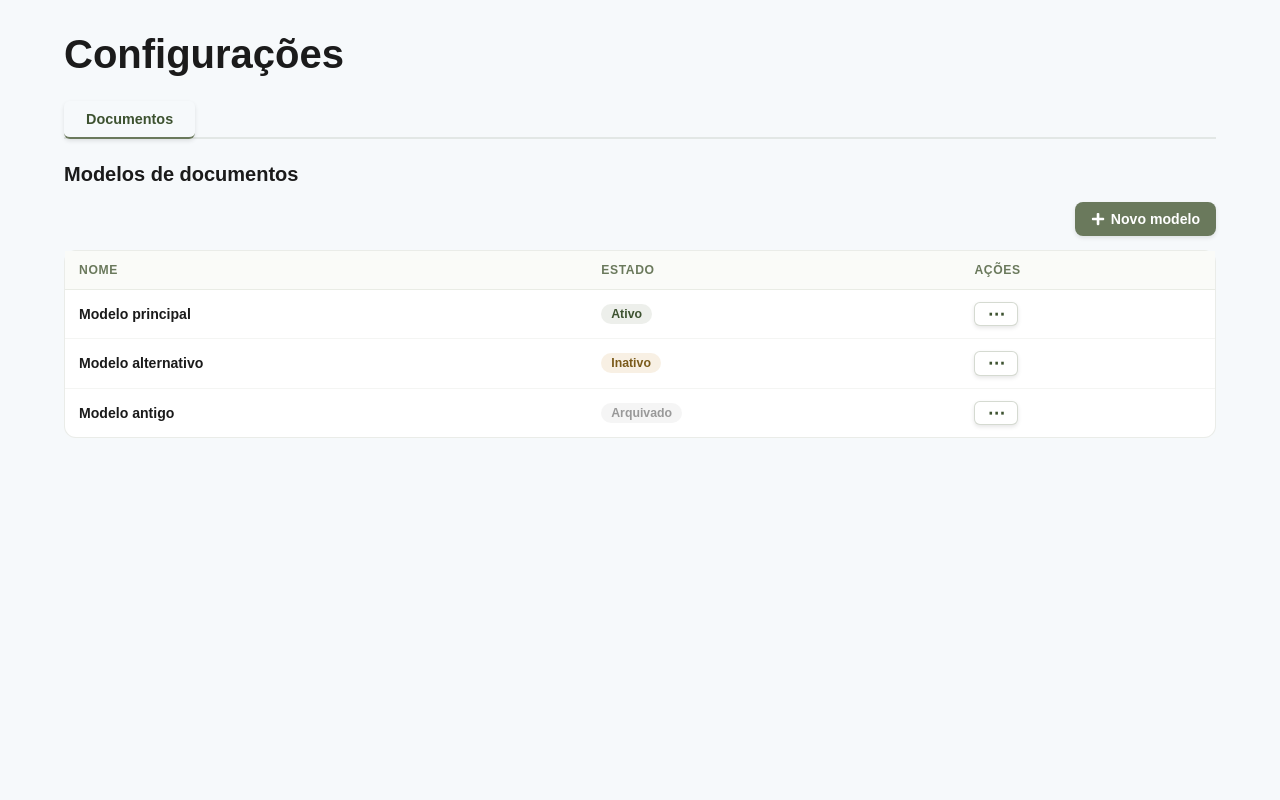
SettingsDocuments › insere na seleção atual e devolve foco e cursor ao textarea
Click the button "Novo modelo" at coordinates (1145, 219), box [1075,202,1216,236]
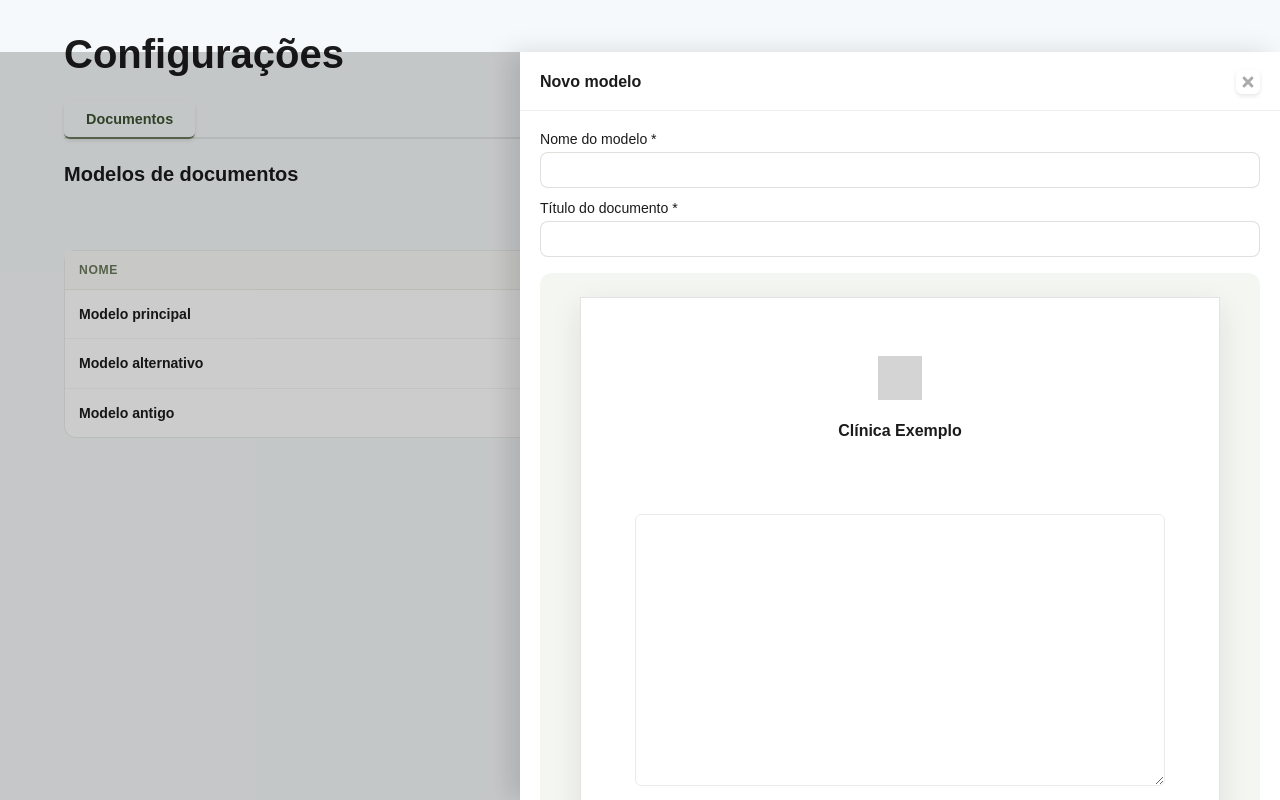
Type "Olá mundo" into the text box named "Texto do modelo" at coordinates (900, 650), box [636,515,1164,785]
(page scrolled)
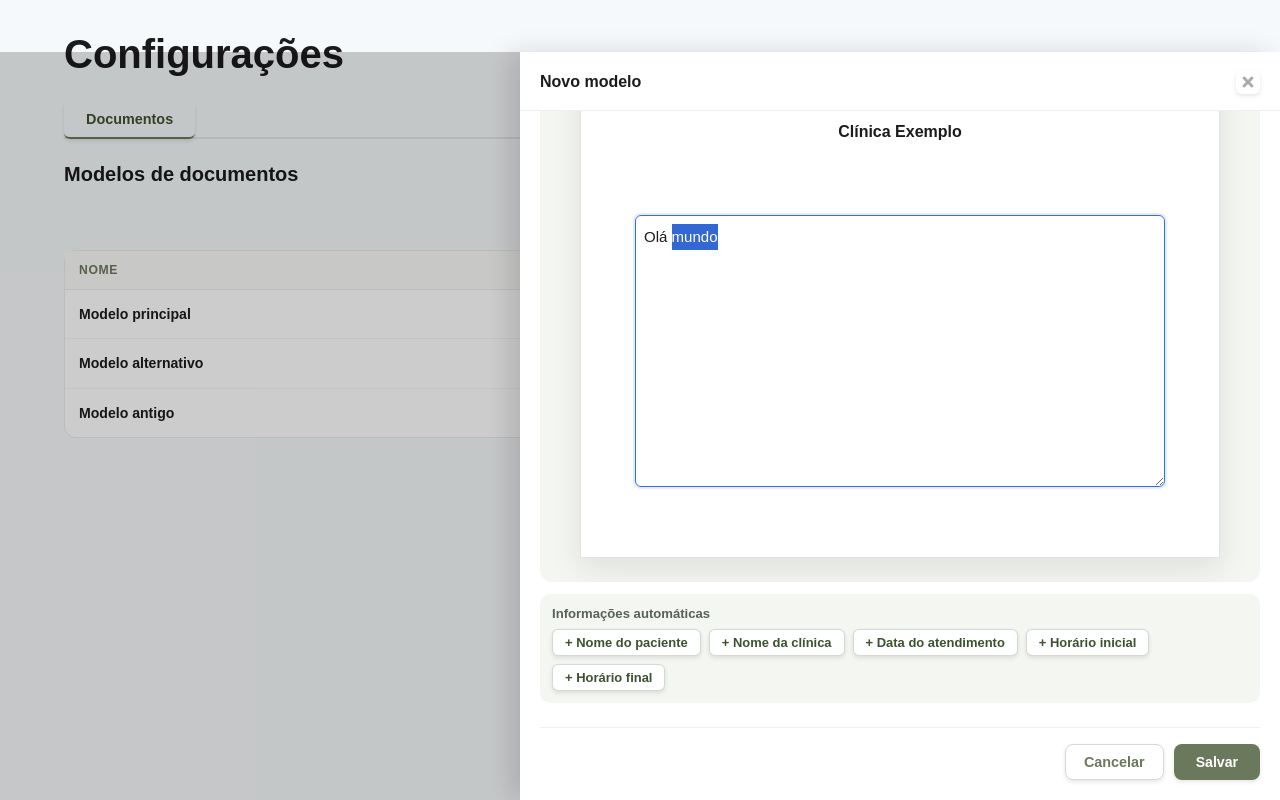
Click the button "+ Nome do paciente" at coordinates (626, 642), box [552,629,701,656]
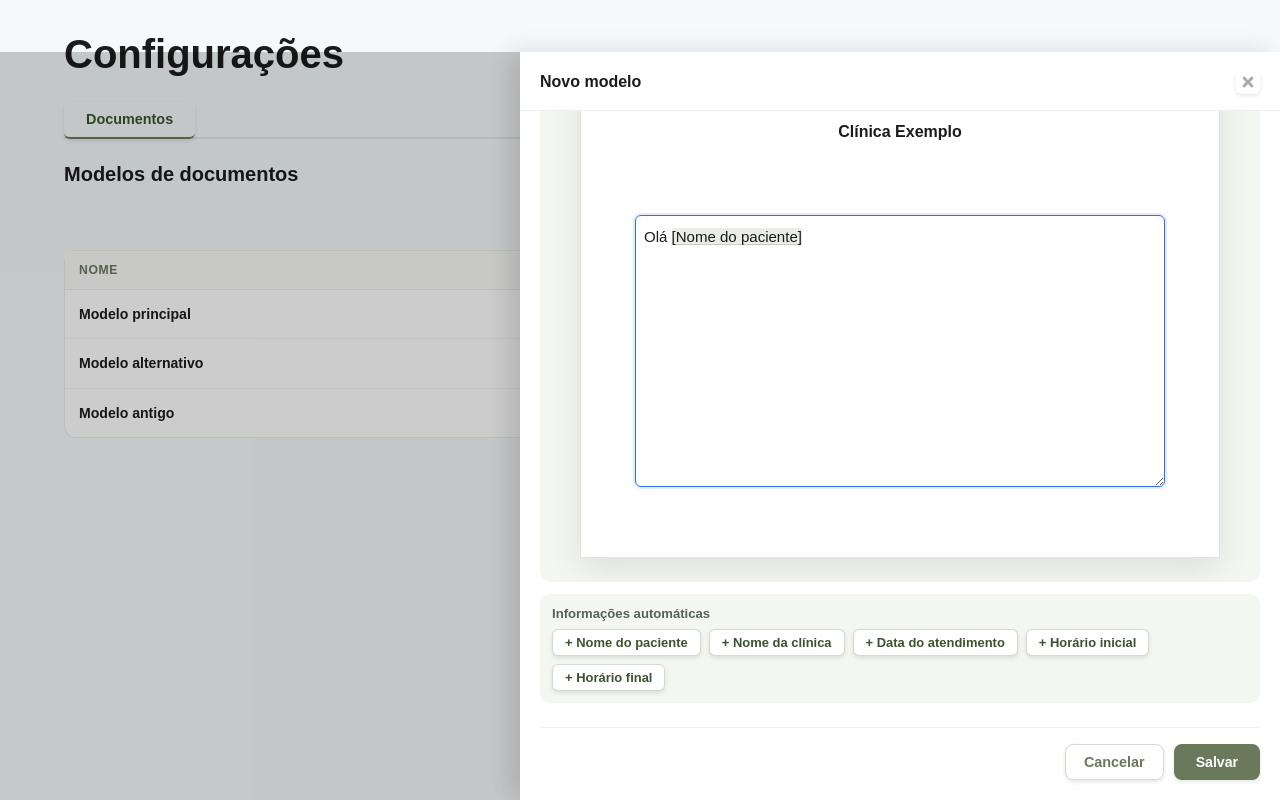
Expected: the text box named "Texto do modelo" holds "Olá [Nome do paciente]", [636,216,1164,486]
